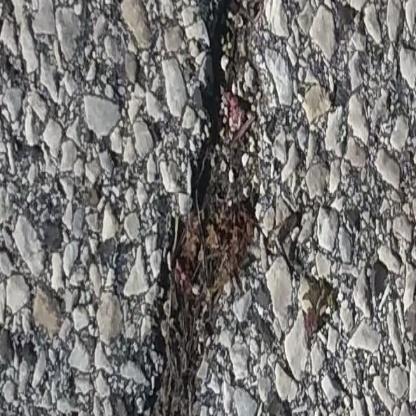Cracks: (127, 0, 280, 416)
